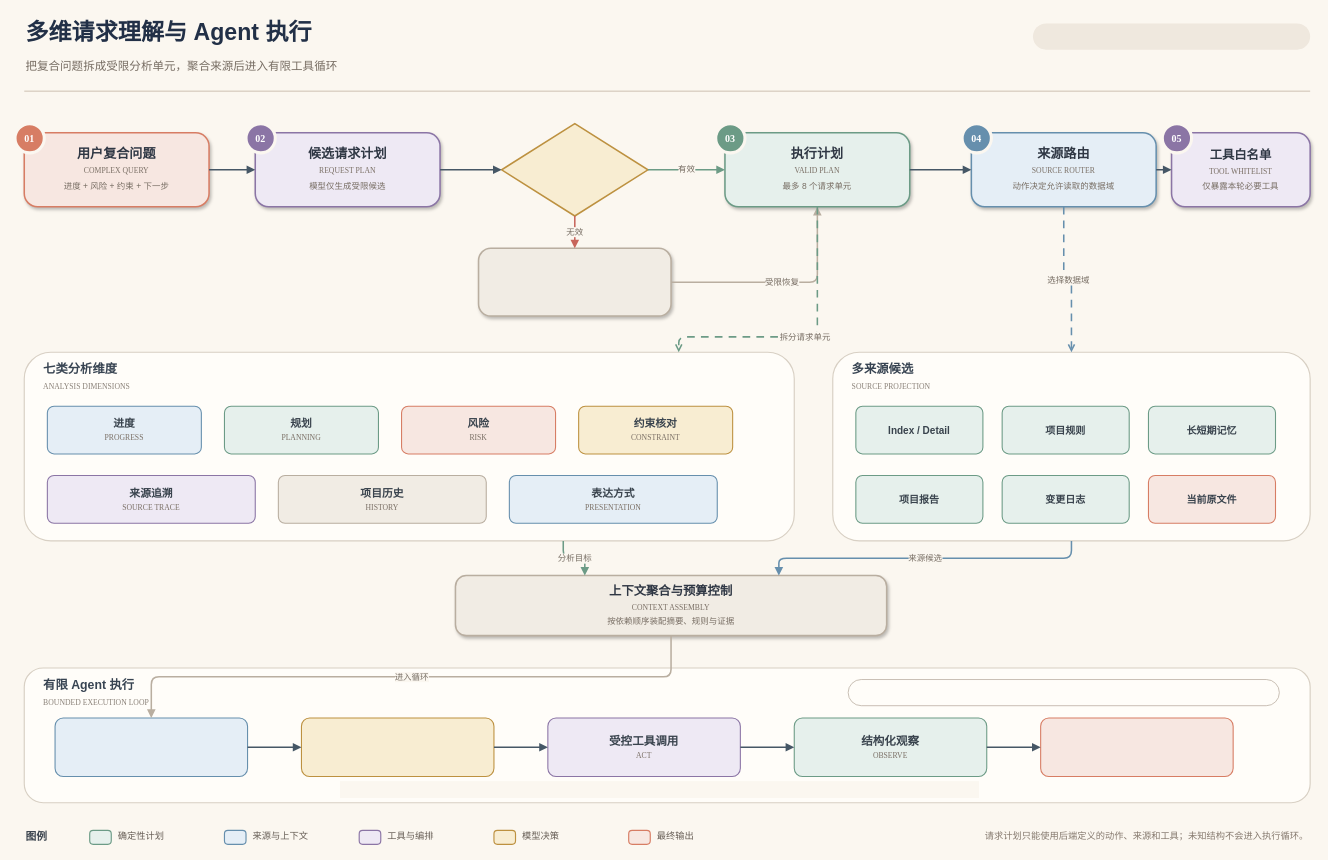
This 1328x860 diagram has some shape labels left out. The centre of each missing label's shape, as x and y in pixels:
"MULTI-DIMENSION · BOUNDED AGENT" goes at (1171,36).
"≤ 5 轮决策 · ≤ 8 次工具 · ≤ 3 次差异化召回" goes at (1063,692).
"后端严格校验 SCHEMA + DEPENDENCY" goes at (574,169).
"摘要上下文 CONTEXT" goes at (151,747).
"未形成最终结论时，将结构化观察回填到下一轮模型决策" goes at (659,789).
"模型决策 DECIDE" goes at (397,747).
"确定性降级计划 FALLBACK 结构无效时拒绝未知字段" goes at (575,283).
"证据化输出 ANSWER" goes at (1136,747).
